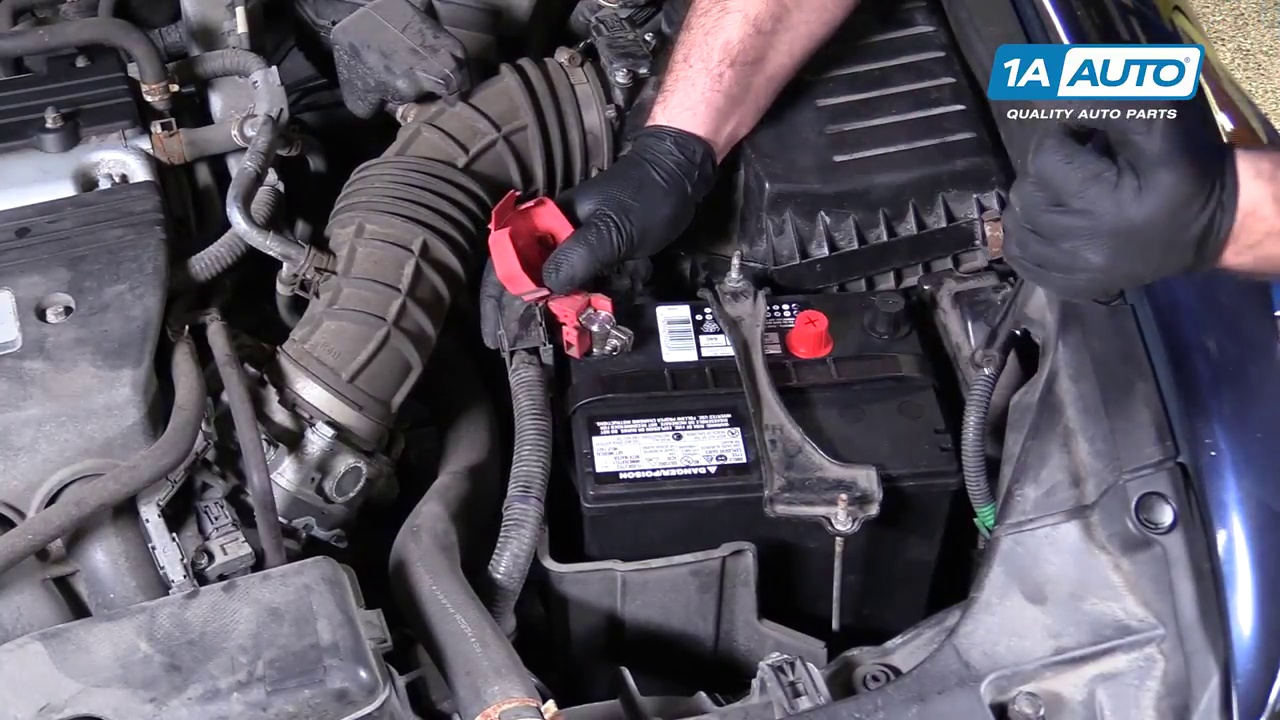battery: (554, 275, 958, 488)
pos_touched: (484, 177, 648, 368)
